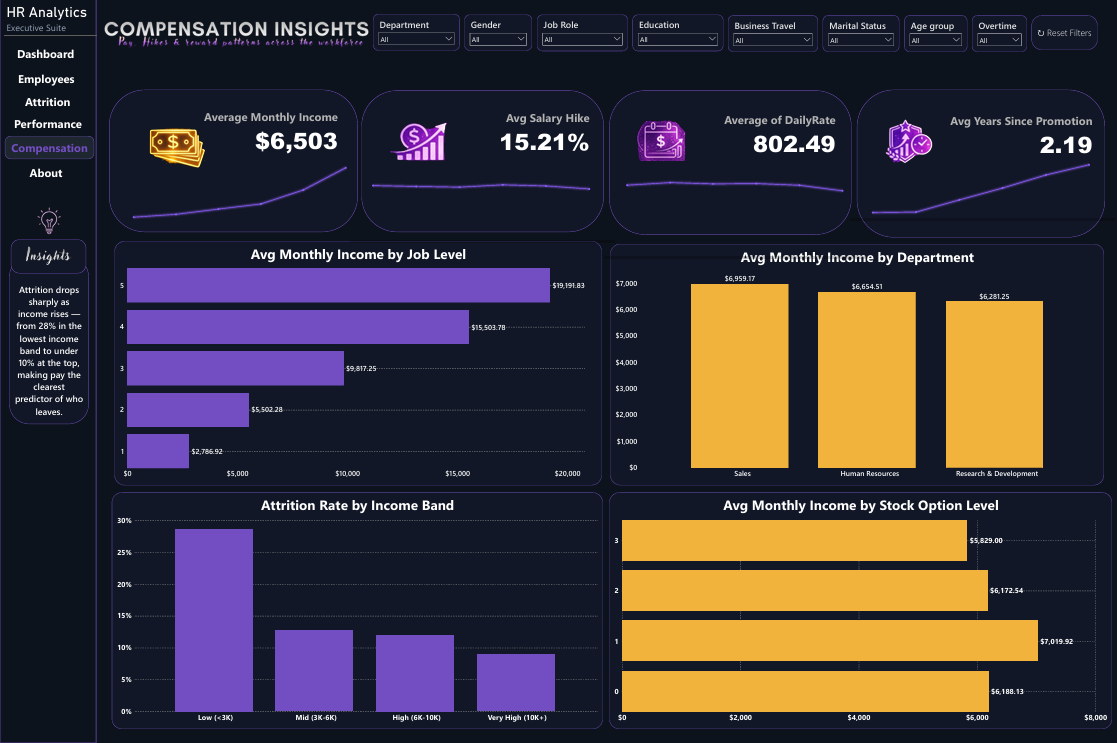

What the dashboard file says about the page in this screenshot:
{"tool":"powerbi","page":{"name":"Compensation","canvas":[3300,2200],"ordinal":4},"visuals":[{"type":"group","id":"g1","title":"Group 2","box":[0,0,3264.9,2200],"z":0},{"type":"shape","box":[2532.4,267.6,732.4,437.8],"z":0,"group":"g1"},{"type":"shape","box":[1800,270.3,716.2,427],"z":1000,"group":"g1"},{"type":"actionButton","box":[20,333.3,243.3,66.7],"z":1000},{"type":"shape","box":[1067.6,270.3,716.2,418.9],"z":2000,"group":"g1"},{"type":"deneb7E15AEF80B9E4D4F8E12924291ECE89A","fields":{"dataset":["HR.TenureBucket","Measures (2).Average Monthly Income"]},"box":[321.6,462.7,780.4,260.8],"z":2000},{"type":"shape","box":[321.6,267.6,735.1,421.6],"z":3000,"group":"g1"},{"type":"deneb7E15AEF80B9E4D4F8E12924291ECE89A","fields":{"dataset":["HR.TenureBucket","Avg(HR.DailyRate)"]},"box":[1778.6,511.9,792.9,261.9],"z":3000},{"type":"cardVisual","fields":{"Data":["Measures (2).Average Monthly Income"]},"box":[351,160.8,676.5,468.6],"z":4000,"group":"g1"},{"type":"deneb7E15AEF80B9E4D4F8E12924291ECE89A","fields":{"dataset":["HR.TenureBucket","Measures (2).Avg Salary Hike"]},"box":[1027.5,525,795,202.5],"z":4000},{"type":"shape","box":[0,0,284,2200],"z":5000,"group":"g1"},{"type":"actionButton","box":[13.5,405.4,264.9,67.6],"z":5000},{"type":"cardVisual","fields":{"Data":["Avg(HR.DailyRate)"]},"box":[1937.3,192.2,560.8,419.6],"z":6000,"group":"g1"},{"type":"clusteredBarChart","title":"Avg Monthly Income by Stock Option Level","fields":{"Category":["HR.StockOptionLevel"],"Y":["Avg(HR.MonthlyIncome)"]},"box":[1800,1459.5,1486.5,700],"z":6000},{"type":"textbox","title":"HR Analytics","box":[13.9,13.9,272.2,136.1],"z":7000,"group":"g1"},{"type":"actionButton","title":"↻ Reset Filters","box":[3047.5,47.5,195,102.5],"z":7000},{"type":"cardVisual","fields":{"Data":["Measures (2).Avg Salary Hike"]},"box":[1192.2,172.5,578.4,447.1],"z":8000,"group":"g1"},{"type":"image","box":[262.5,250,502.5,377.5],"z":8000},{"type":"actionButton","box":[13,130,243,62],"z":9000,"group":"g1"},{"type":"image","box":[867.5,200,707.5,302.5],"z":9000},{"type":"cardVisual","fields":{"Data":["Measures (2).Avg Years Since Promotion"]},"box":[2542.9,171.4,714.3,466.7],"z":10000,"group":"g1"},{"type":"deneb7E15AEF80B9E4D4F8E12924291ECE89A","fields":{"dataset":["HR.TenureBucket","Measures (2).Avg Years Since Promotion"]},"box":[2505,462.5,795,200],"z":10000},{"type":"actionButton","box":[15,201,243,69],"z":11000,"group":"g1"},{"type":"image","box":[2332.5,257.5,685,407.5],"z":11000},{"type":"image","box":[1802.5,237.5,300,355],"z":12000},{"type":"actionButton","box":[19,268,243,67],"z":12000,"group":"g1"},{"type":"image","box":[300,-8,795,213],"z":13000},{"type":"actionButton","box":[13.5,478.4,243.2,67.6],"z":15000,"group":"g1"},{"type":"image","box":[67.1,662.9,150,192.9],"z":15001},{"type":"clusteredBarChart","title":"Avg Monthly Income by Job Level","fields":{"Category":["HR.JobLevel"],"Y":["Avg(HR.MonthlyIncome)"]},"box":[337.8,716.2,1440.5,721.6],"z":16000,"group":"g1"},{"type":"clusteredColumnChart","title":"Avg Monthly Income by Department","fields":{"Category":["HR.Department"],"Y":["Avg(HR.MonthlyIncome)"]},"box":[1802.7,724.3,1459.5,713.5],"z":17000,"group":"g1"},{"type":"clusteredColumnChart","title":"Attrition Rate by Income Band","fields":{"Category":["HR.Income Band"],"Y":["Measures (2).Attrition Rate"]},"box":[329.7,1459.5,1451.4,700],"z":18000,"group":"g1"},{"type":"slicer","fields":{"Values":["HR.BusinessTravel"]},"box":[2151.1,48,266,108],"z":19000,"group":"g3"},{"type":"slicer","fields":{"Values":["HR.Department"]},"box":[1102,44,256,108],"z":20000,"group":"g3"},{"type":"slicer","fields":{"Values":["HR.Gender"]},"box":[1372.3,46,200,106],"z":21000,"group":"g3"},{"type":"slicer","fields":{"Values":["HR.JobRole"]},"box":[1586.6,46,268,108],"z":22000,"group":"g3"},{"type":"slicer","fields":{"Values":["HR.EducationField"]},"box":[1868.9,46,268,108],"z":23000,"group":"g3"},{"type":"slicer","fields":{"Values":["HR.MaritalStatus"]},"box":[2431.4,48,226,108],"z":24000,"group":"g3"},{"type":"slicer","fields":{"Values":["HR.Age Group"]},"box":[2671.7,48,186,108],"z":25000,"group":"g3"},{"type":"slicer","fields":{"Values":["HR.OverTime"]},"box":[2872,48,162,108],"z":26000,"group":"g3"},{"type":"shape","box":[27.2,762.2,235.1,494.6],"z":27000,"group":"g1"},{"type":"textbox","box":[35.4,835.1,218.9,421.6],"z":28000,"group":"g1"},{"type":"group","id":"g2","title":"Group 1","box":[32.4,710.8,221.6,100],"z":29000,"group":"g1"},{"type":"image","box":[2.8,530.6,283.3,266.7],"z":30000,"group":"g1"},{"type":"group","id":"g3","title":"Group 3","box":[1102,44,1932,112],"z":36500,"group":"g1"},{"type":"shape","box":[32.4,710.8,221.6,100],"z":59000,"group":"g2"}]}

Visuals, with their boxes on the page's 3300x2200 design canvas (x1, y1, x2, y2). These are canvas units, not pixel positions in the 1117x743 screenshot, which may show the page scaled, cropped or inside an application window:
"Group 2" group: {"left": 0, "top": 0, "right": 3265, "bottom": 2200}
shape: {"left": 2532, "top": 268, "right": 3265, "bottom": 705}
shape: {"left": 1800, "top": 270, "right": 2516, "bottom": 697}
actionButton: {"left": 20, "top": 333, "right": 263, "bottom": 400}
shape: {"left": 1068, "top": 270, "right": 1784, "bottom": 689}
deneb7E15AEF80B9E4D4F8E12924291ECE89A - HR.TenureBucket x Measures (2).Average Monthly Income: {"left": 322, "top": 463, "right": 1102, "bottom": 724}
shape: {"left": 322, "top": 268, "right": 1057, "bottom": 689}
deneb7E15AEF80B9E4D4F8E12924291ECE89A - HR.TenureBucket x Avg(HR.DailyRate): {"left": 1779, "top": 512, "right": 2572, "bottom": 774}
cardVisual - Measures (2).Average Monthly Income: {"left": 351, "top": 161, "right": 1028, "bottom": 629}
deneb7E15AEF80B9E4D4F8E12924291ECE89A - HR.TenureBucket x Measures (2).Avg Salary Hike: {"left": 1028, "top": 525, "right": 1822, "bottom": 728}
shape: {"left": 0, "top": 0, "right": 284, "bottom": 2200}
actionButton: {"left": 14, "top": 405, "right": 278, "bottom": 473}
cardVisual - Avg(HR.DailyRate): {"left": 1937, "top": 192, "right": 2498, "bottom": 612}
"Avg Monthly Income by Stock Option Level" clusteredBarChart: {"left": 1800, "top": 1460, "right": 3286, "bottom": 2160}
"HR Analytics" textbox: {"left": 14, "top": 14, "right": 286, "bottom": 150}
"↻ Reset Filters" actionButton: {"left": 3048, "top": 48, "right": 3242, "bottom": 150}
cardVisual - Measures (2).Avg Salary Hike: {"left": 1192, "top": 172, "right": 1771, "bottom": 620}
image: {"left": 262, "top": 250, "right": 765, "bottom": 628}
actionButton: {"left": 13, "top": 130, "right": 256, "bottom": 192}
image: {"left": 868, "top": 200, "right": 1575, "bottom": 502}
cardVisual - Measures (2).Avg Years Since Promotion: {"left": 2543, "top": 171, "right": 3257, "bottom": 638}
deneb7E15AEF80B9E4D4F8E12924291ECE89A - HR.TenureBucket x Measures (2).Avg Years Since Promotion: {"left": 2505, "top": 462, "right": 3300, "bottom": 662}
actionButton: {"left": 15, "top": 201, "right": 258, "bottom": 270}
image: {"left": 2332, "top": 258, "right": 3018, "bottom": 665}
image: {"left": 1802, "top": 238, "right": 2102, "bottom": 592}
actionButton: {"left": 19, "top": 268, "right": 262, "bottom": 335}
image: {"left": 300, "top": -8, "right": 1095, "bottom": 205}
actionButton: {"left": 14, "top": 478, "right": 257, "bottom": 546}
image: {"left": 67, "top": 663, "right": 217, "bottom": 856}
"Avg Monthly Income by Job Level" clusteredBarChart: {"left": 338, "top": 716, "right": 1778, "bottom": 1438}
"Avg Monthly Income by Department" clusteredColumnChart: {"left": 1803, "top": 724, "right": 3262, "bottom": 1438}
"Attrition Rate by Income Band" clusteredColumnChart: {"left": 330, "top": 1460, "right": 1781, "bottom": 2160}
slicer - HR.BusinessTravel: {"left": 2151, "top": 48, "right": 2417, "bottom": 156}
slicer - HR.Department: {"left": 1102, "top": 44, "right": 1358, "bottom": 152}
slicer - HR.Gender: {"left": 1372, "top": 46, "right": 1572, "bottom": 152}
slicer - HR.JobRole: {"left": 1587, "top": 46, "right": 1855, "bottom": 154}
slicer - HR.EducationField: {"left": 1869, "top": 46, "right": 2137, "bottom": 154}
slicer - HR.MaritalStatus: {"left": 2431, "top": 48, "right": 2657, "bottom": 156}
slicer - HR.Age Group: {"left": 2672, "top": 48, "right": 2858, "bottom": 156}
slicer - HR.OverTime: {"left": 2872, "top": 48, "right": 3034, "bottom": 156}
shape: {"left": 27, "top": 762, "right": 262, "bottom": 1257}
textbox: {"left": 35, "top": 835, "right": 254, "bottom": 1257}
"Group 1" group: {"left": 32, "top": 711, "right": 254, "bottom": 811}
image: {"left": 3, "top": 531, "right": 286, "bottom": 797}
"Group 3" group: {"left": 1102, "top": 44, "right": 3034, "bottom": 156}
shape: {"left": 32, "top": 711, "right": 254, "bottom": 811}
